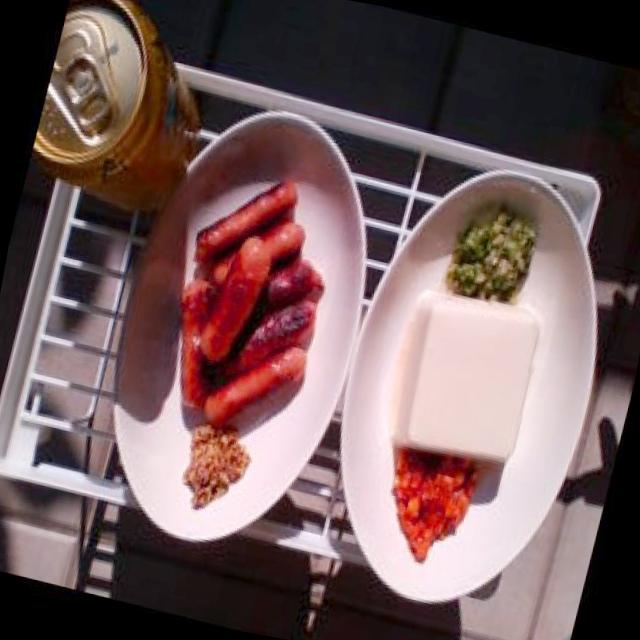Sausage: (149, 157, 355, 440)
